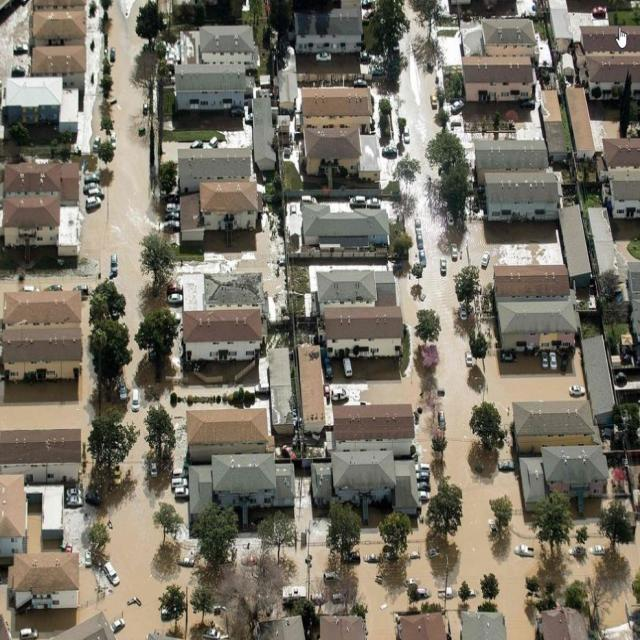flooded_areas: (97, 6, 632, 630)
